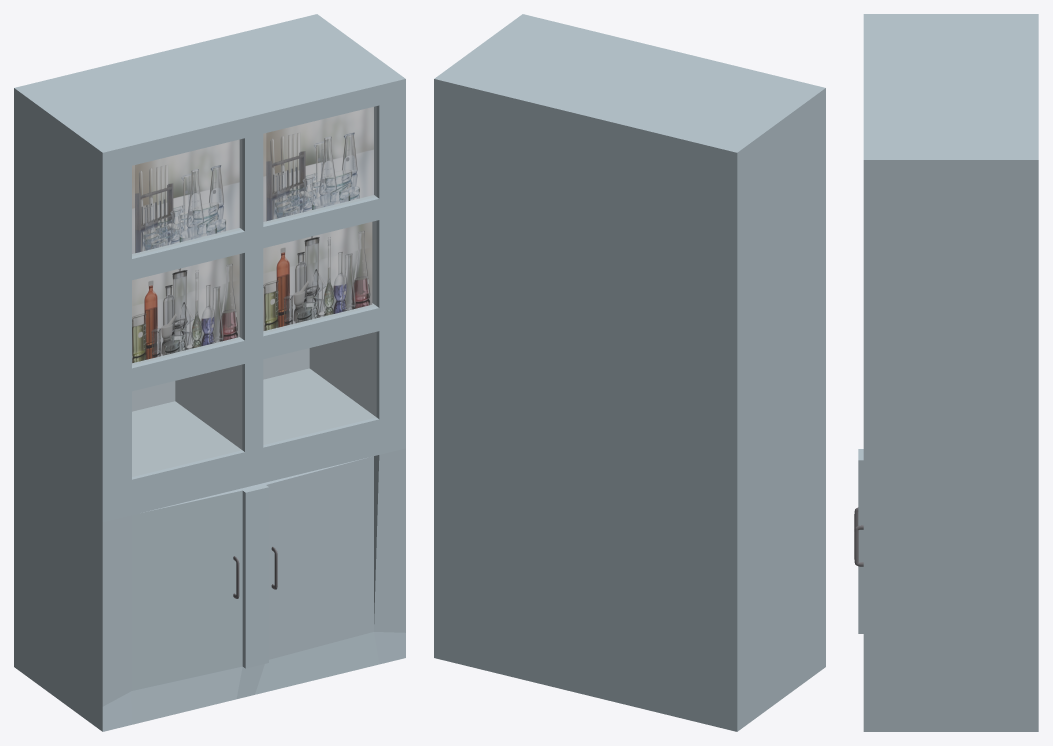
Rendered from Shelf.fbx.
The picture shows the model from 3 angles, left to right: view 1: azimuth 30°, elevation 25°; view 2: azimuth 150°, elevation 25°; view 3: azimuth 270°, elevation 25°; orthographic projection.
Visible parts, largest first — view 1: Shelf, 平面.004, 平面.003, 平面, 平面.001, 平面.002; view 2: Shelf; view 3: Shelf.
Part boxes in pixels (box(x1,y1,x2,y2)): Shelf: box(14, 14, 405, 731); 平面.004: box(132, 107, 375, 476); 平面.003: box(263, 107, 373, 221); 平面: box(132, 139, 239, 253); 平面.001: box(263, 222, 372, 330); 平面.002: box(132, 254, 239, 363); Shelf: box(434, 14, 825, 731); Shelf: box(858, 14, 1038, 731).
Bounding box in the file's own units: 110 × 200 × 58.46.
Materials: 5 (2 with a texture image).
